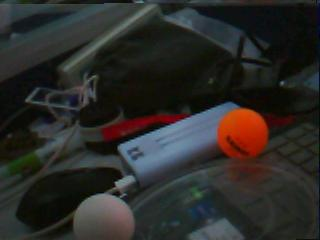oball: (215, 107, 269, 157)
